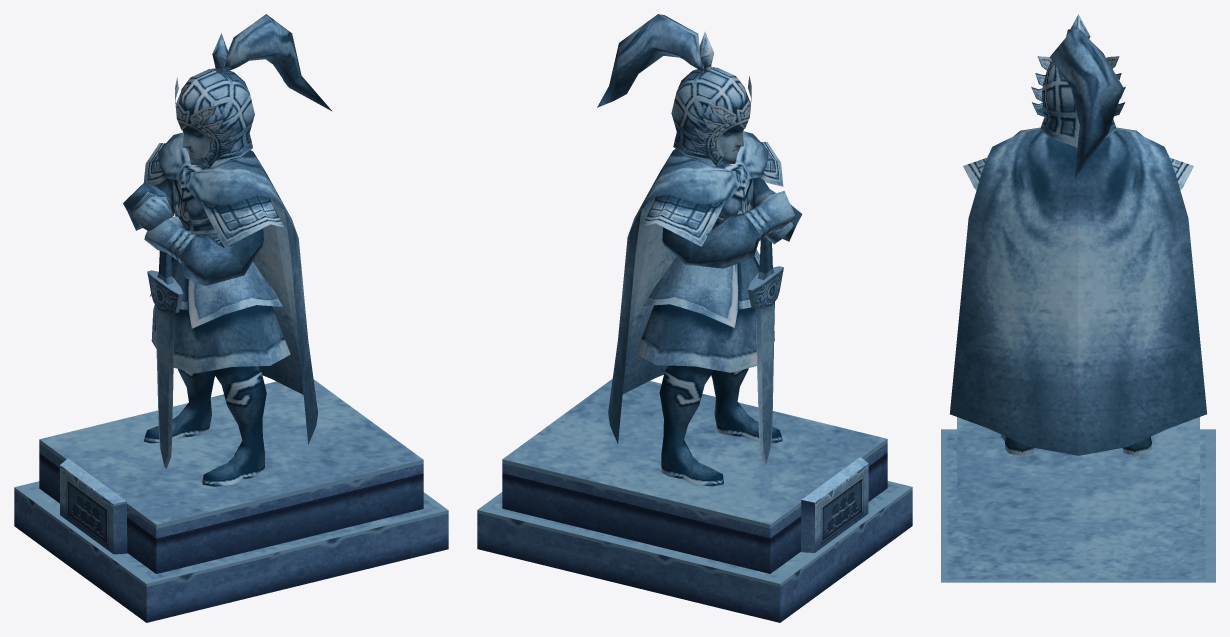
The model's file is 3kui_map_statue.FBX.
3 renders of one model, left to right at view 1: azimuth 30°, elevation 25°; view 2: azimuth 150°, elevation 25°; view 3: azimuth 270°, elevation 25°, orthographic. The views are drawn at different scales.
Visible parts, largest first — view 1: 3kui_map_statue, 3kui_map_statue2; view 2: 3kui_map_statue, 3kui_map_statue2; view 3: 3kui_map_statue.
Part boxes in pixels (x1=…): 3kui_map_statue: x1=14, y1=14, x2=448, y2=622; 3kui_map_statue2: x1=59, y1=458, x2=127, y2=554; 3kui_map_statue: x1=477, y1=14, x2=912, y2=622; 3kui_map_statue2: x1=801, y1=457, x2=868, y2=552; 3kui_map_statue: x1=941, y1=14, x2=1215, y2=582.
Bounding box in the file's own units: 553 × 899 × 419.
